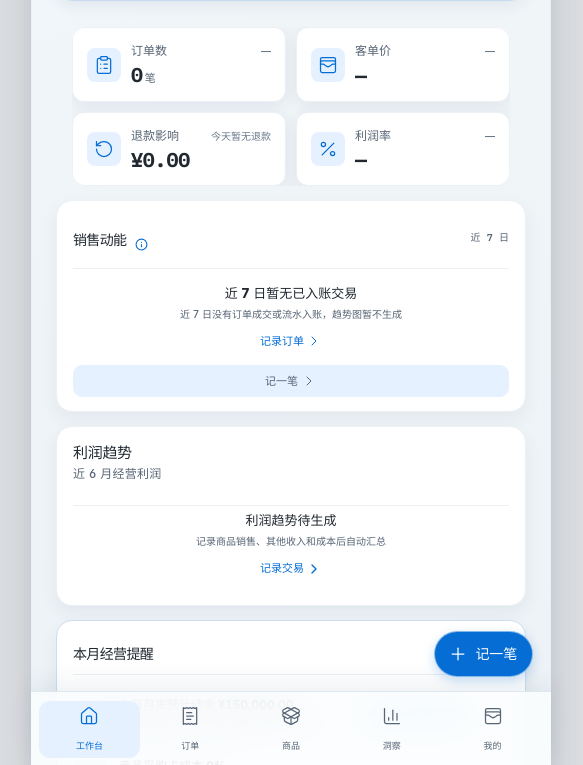
Test: 首页近 7 日销售趋势空态（T8 · 空态与零值区分） › 7 日窗口内没有任何日粒度交易时渲染真实空态：结果/原因/下一步入口，入口走既有导航
(page scrolled)
Check: the text "近 7 日暂无已入账交易" is shown, box [225,285,357,301]
Check: the text "近 7 日没有订单成交或流水入账，趋势图暂不生成" is shown, box [180,307,402,322]
# 记一笔 → 既有记一笔表单；返回一次即回到工作台
Click the button "记一笔" below "销售动能": (291, 382) [73,366,509,398]
(page scrolled)
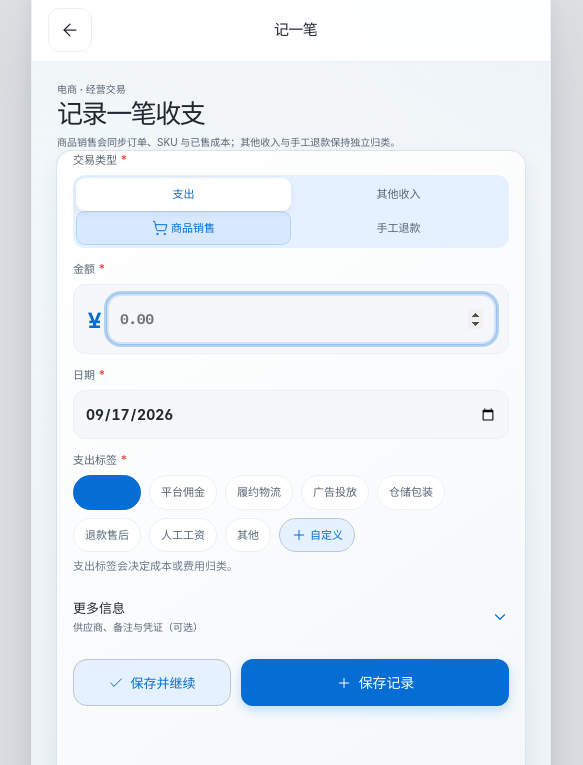
Check: the heading "记录一笔收支" is shown, box [57,98,204,129]
Click the button named "返回": (70, 30) [48,8,92,52]
(page scrolled)
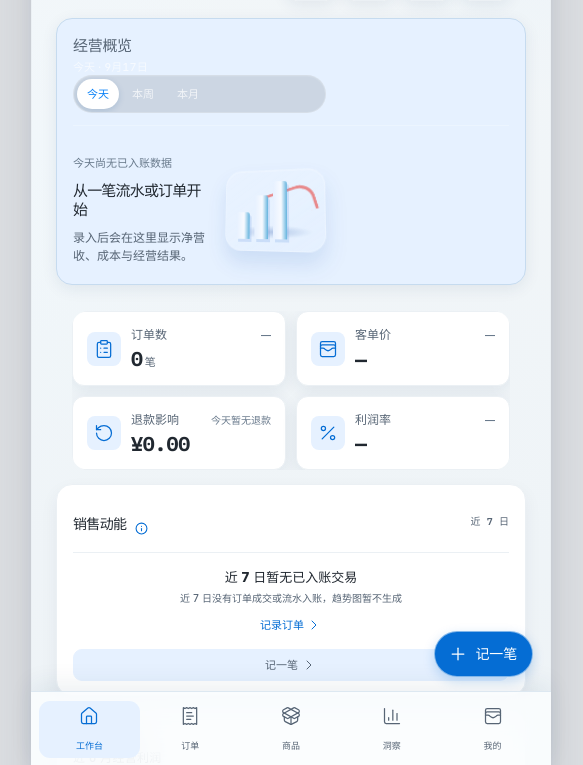
Check: the element with test id "home-sales-orders-empty" is shown, box [56,484,526,696]
# 记录订单 → 既有订单入账表单
Click the button "近 7 日暂无已入账交易 近 7 日没有订单成交或流水入账，趋势图暂不生成 记录订单": (291, 604) [73,563,509,646]
(page scrolled)
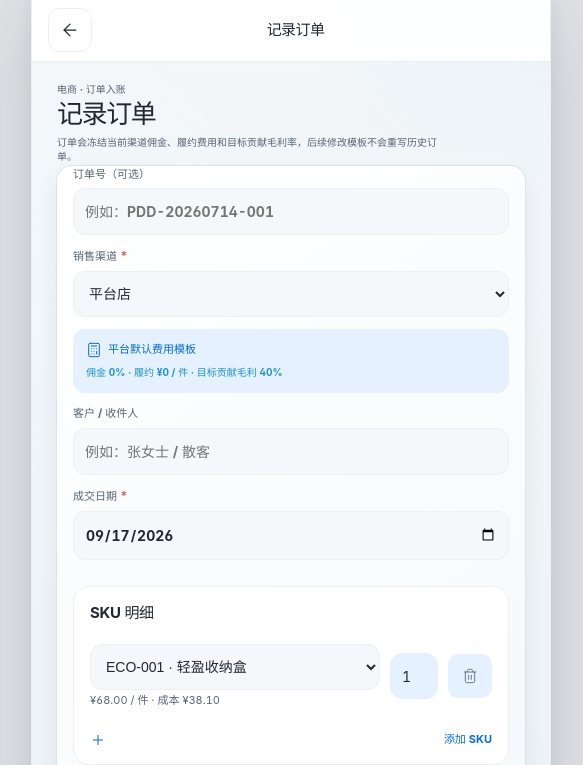
Check: the heading "记录订单" is shown, box [57,98,155,129]
